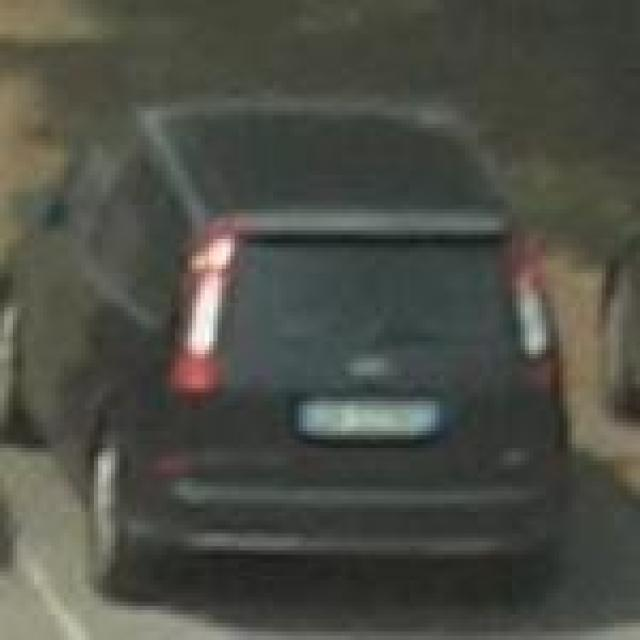cars-sUYr: (0, 75, 593, 617)
